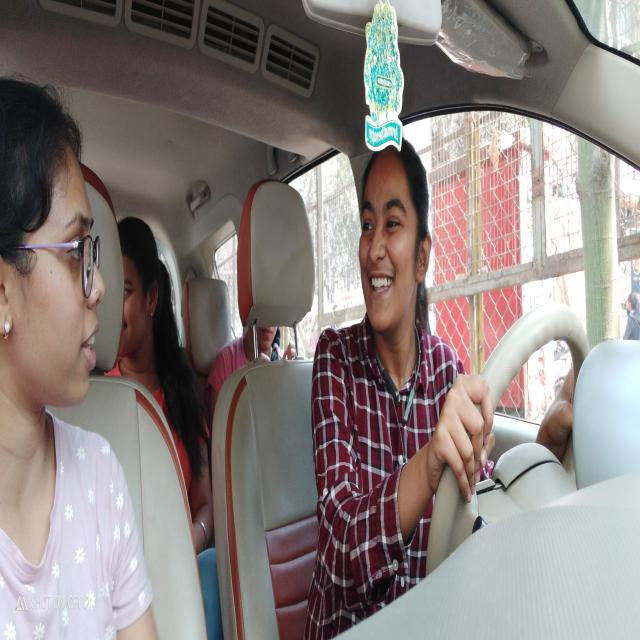LeftRight: (3, 96, 104, 407), (355, 154, 433, 332)
person: (122, 237, 158, 355)
talking: (79, 318, 103, 371), (366, 276, 395, 300)
